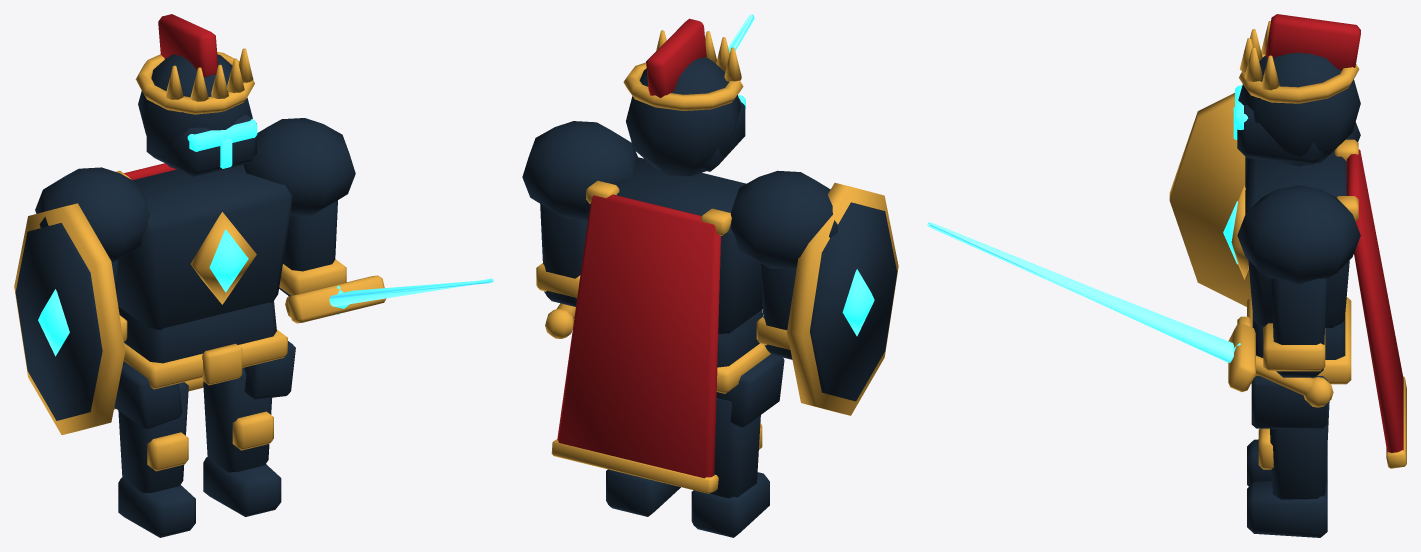
The model's file is hero_guardian.glb.
The picture shows the model from 3 angles, left to right: view 1: azimuth 30°, elevation 25°; view 2: azimuth 150°, elevation 25°; view 3: azimuth 270°, elevation 25°; orthographic projection.
Parts seen in each view (by area): view 1: Body, LeftArm, Head, RightLeg, LeftLeg, RightArm, Weapon, HeroVisor, HeroBlade, Tail; view 2: Tail, Body, LeftArm, Head, LeftLeg, RightArm, RightLeg, Weapon; view 3: Body, Head, LeftArm, Tail, RightLeg, RightArm, HeroBlade, Weapon, LeftLeg.
Boxes of the visible parts, x1,y1,x2,y2 form: Body: (35, 118, 355, 429); LeftArm: (14, 203, 127, 434); Head: (135, 14, 256, 176); RightLeg: (203, 367, 281, 516); LeftLeg: (118, 382, 195, 537); RightArm: (279, 200, 346, 296); Weapon: (285, 275, 386, 323); HeroVisor: (187, 119, 257, 168); HeroBlade: (329, 278, 493, 306); Tail: (114, 163, 203, 409); Tail: (551, 180, 731, 493); Body: (522, 121, 837, 427); LeftArm: (756, 183, 898, 415); Head: (623, 18, 745, 176); LeftLeg: (691, 398, 769, 537); RightArm: (536, 204, 587, 306); RightLeg: (606, 469, 680, 516); Weapon: (545, 303, 575, 338); Body: (1223, 122, 1360, 428); Head: (1237, 14, 1360, 166); LeftArm: (1169, 93, 1251, 306); Tail: (1334, 139, 1406, 468); RightLeg: (1247, 401, 1329, 537); RightArm: (1263, 278, 1326, 377); HeroBlade: (927, 222, 1233, 362); Weapon: (1228, 323, 1333, 407); LeftLeg: (1247, 439, 1327, 486).
Size of the model in its own units: 1.6 by 2.28 by 2.02.
